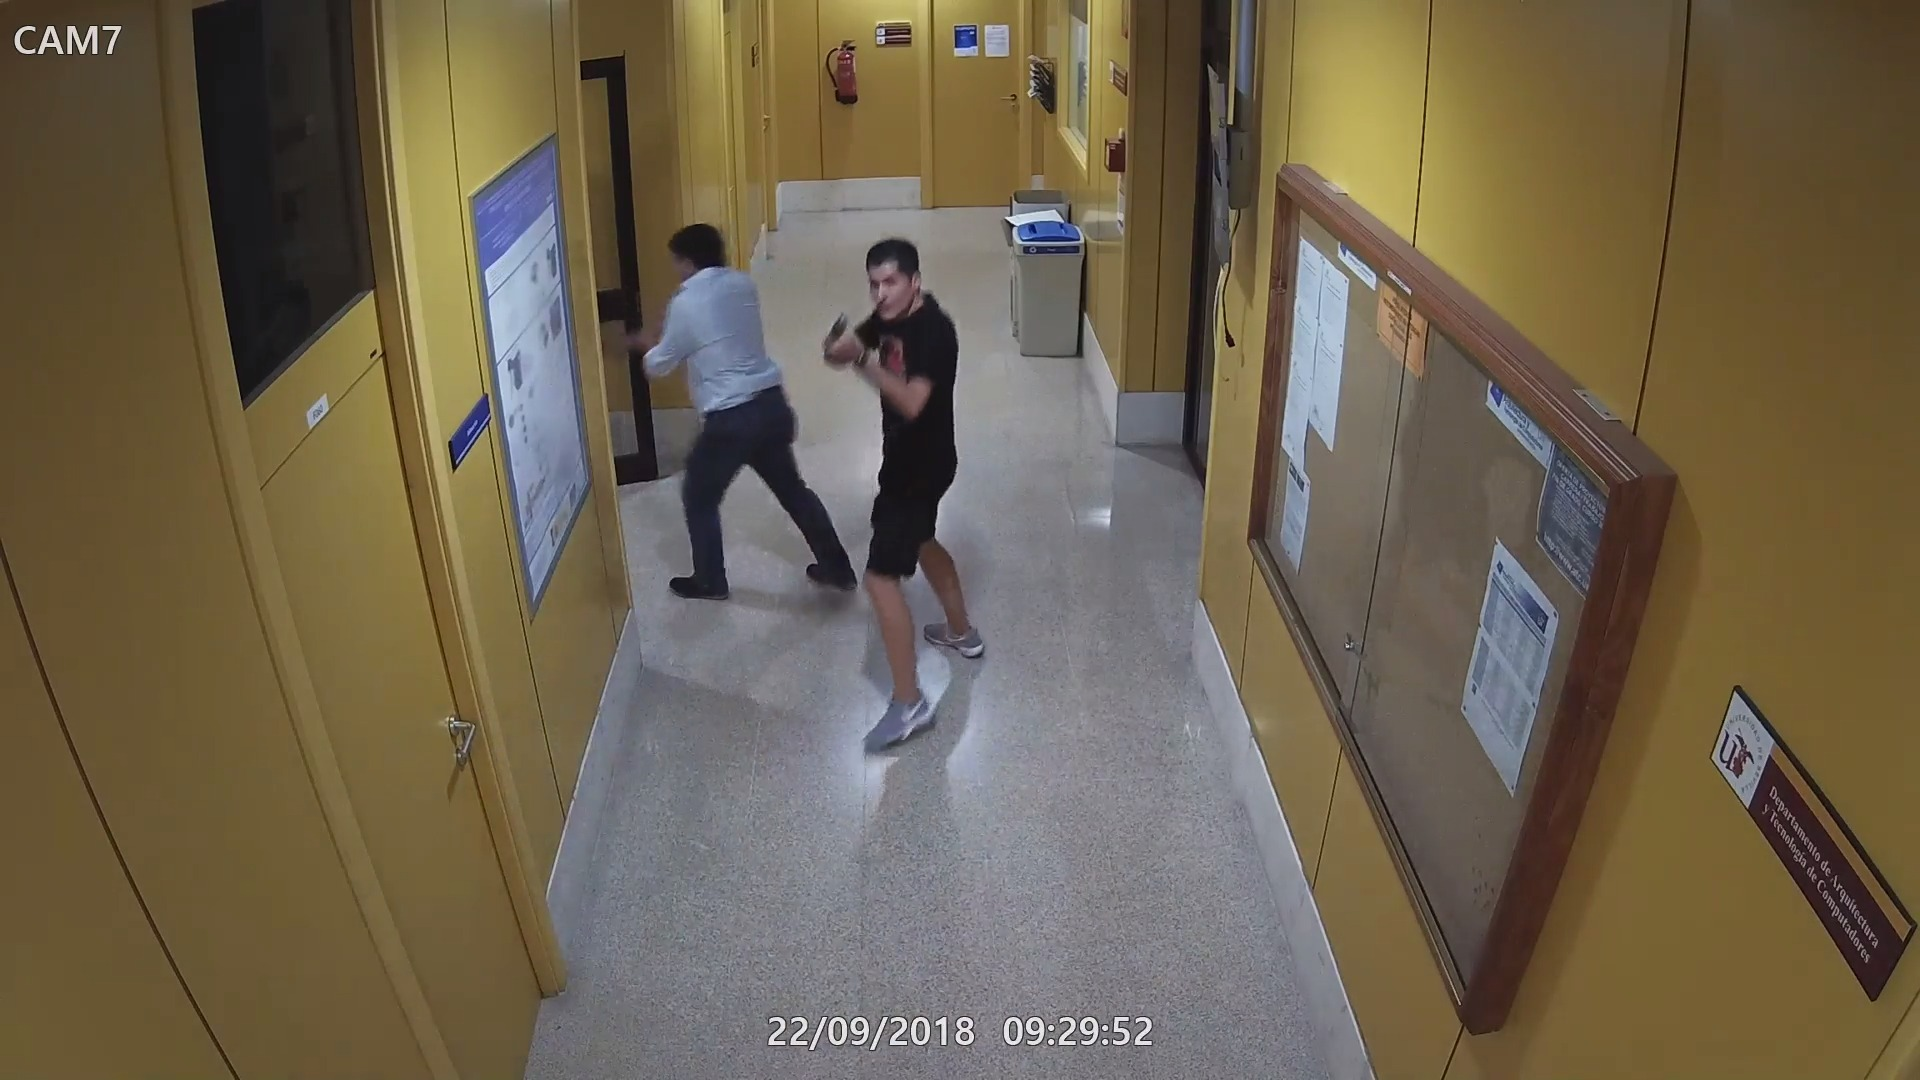Handgun: (822, 310, 858, 368)
